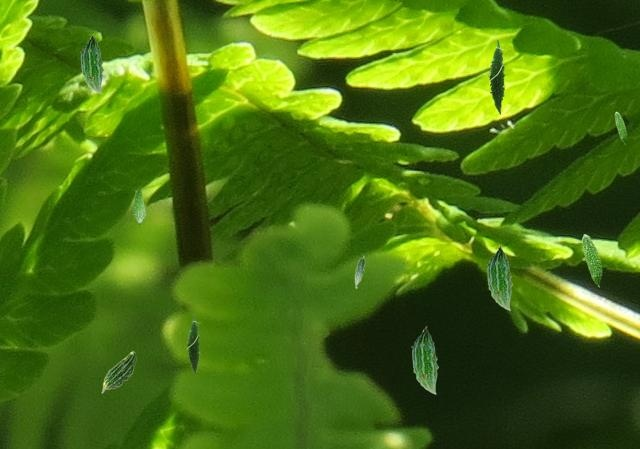ampalaya: (411, 325, 439, 395), (486, 244, 513, 311), (487, 38, 507, 115), (79, 33, 104, 94), (101, 351, 136, 393), (581, 233, 603, 287), (186, 314, 202, 375), (132, 186, 146, 225), (614, 111, 627, 144), (354, 255, 365, 288)
